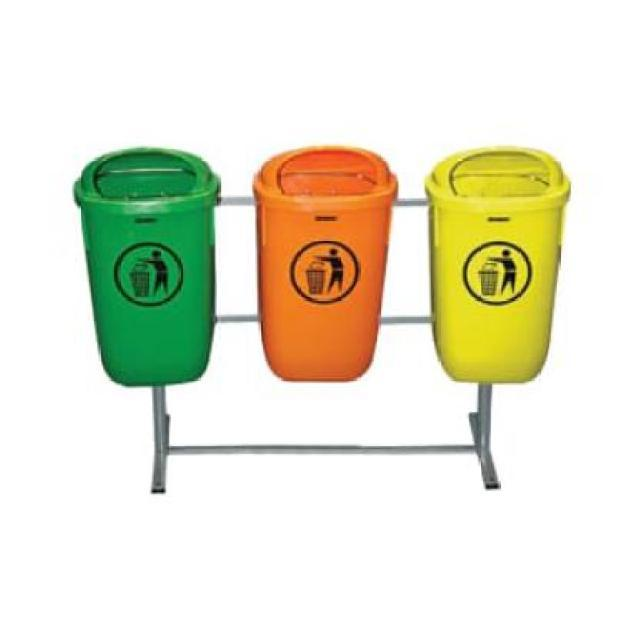garbage container: (410, 136, 584, 396), (248, 137, 414, 400), (69, 140, 229, 401)
